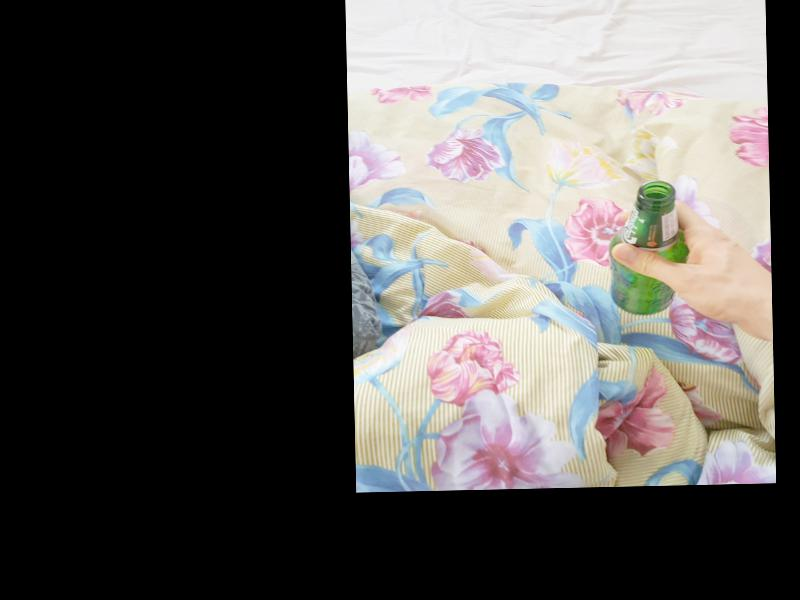Beer: (609, 182, 690, 316)
